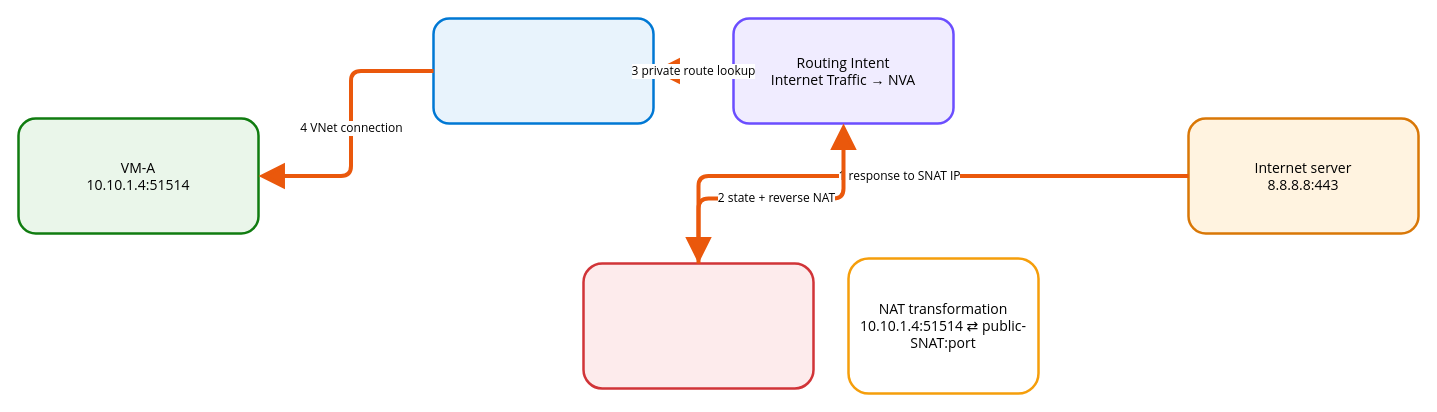
Some shapes in this 1437 by 412 pixel diagram are drawn without their labels. The shapes that lost their labels are listed below. From the top down, each one's centre as x and y in pixels, then its label:
At point 543,70: "Secured default route 0.0.0.0/0 → NVA".
At point 698,325: "Integrated NGFW policy + NAT + state".
